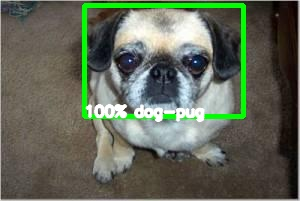dog-pug: (84, 7, 240, 114)
